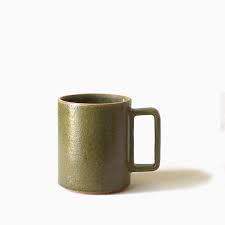mug: (37, 79, 181, 200)
